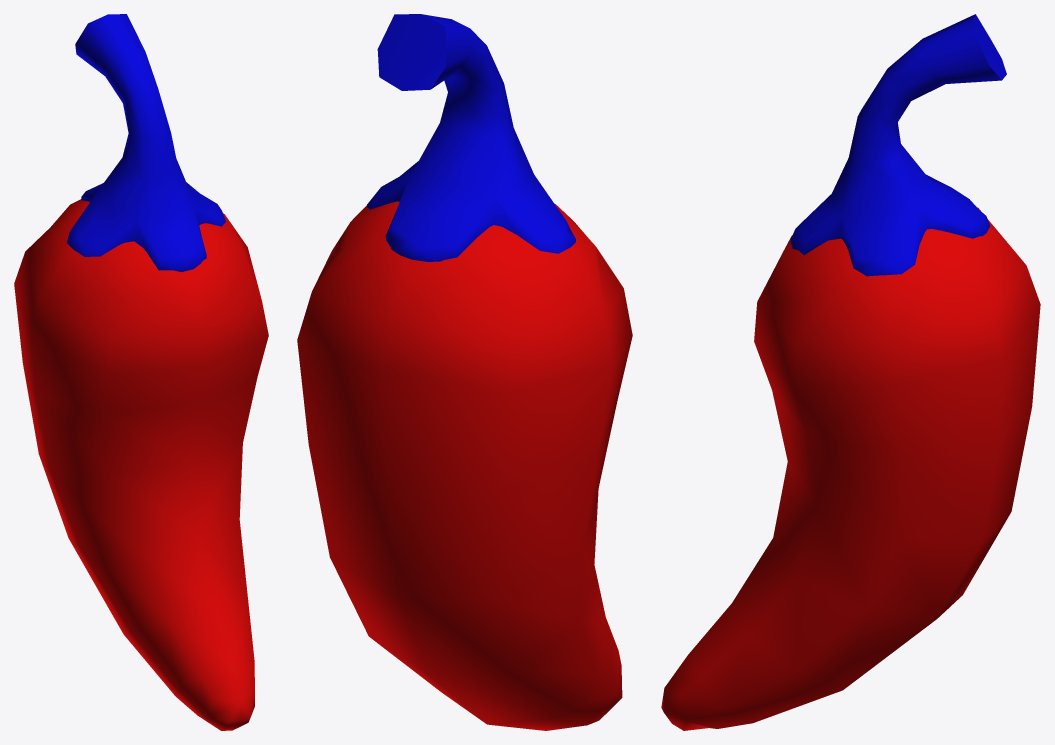
Rendered from Pepper_Product.fbx.
3 renders of one model, left to right at view 1: azimuth 30°, elevation 25°; view 2: azimuth 150°, elevation 25°; view 3: azimuth 270°, elevation 25°, orthographic. The views are drawn at different scales.
Visible parts, largest first — view 1: BSTC_Pepper_Product; view 2: BSTC_Pepper_Product; view 3: BSTC_Pepper_Product.
Part boxes in pixels (x1,y1,x2,y2): BSTC_Pepper_Product: (14, 14, 268, 730); BSTC_Pepper_Product: (297, 14, 632, 730); BSTC_Pepper_Product: (661, 14, 1040, 730).
Bounding box in the file's own units: 15.22 × 40.66 × 19.68.
